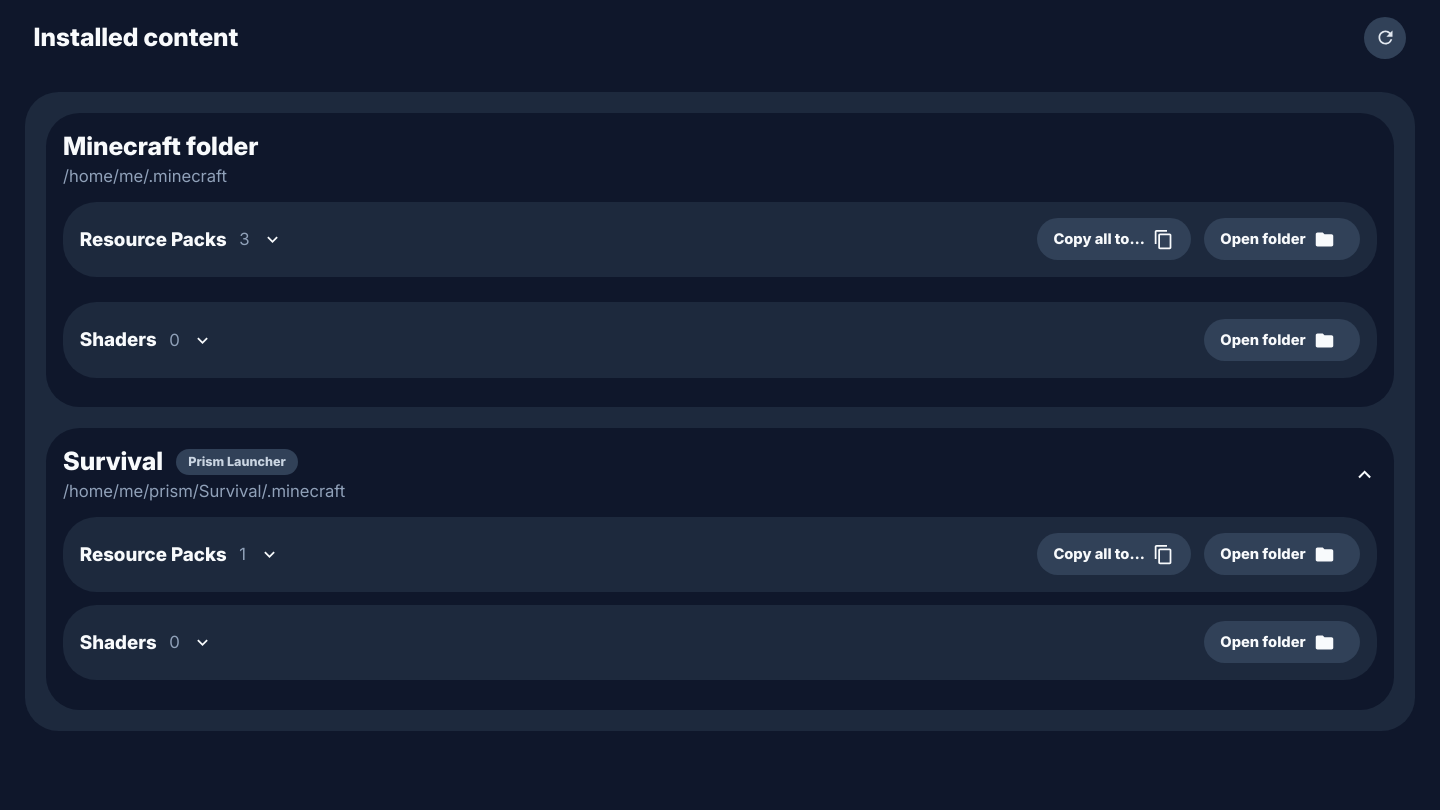
Test case: InstalledContentPage — copying between locations › lists the other locations for a file and checks off the ones that have it
The image size is (1440, 810).
Click the text "Resource Packs" below "/home/me/.minecraft".
click(153, 239)  # box [80,225,227,254]
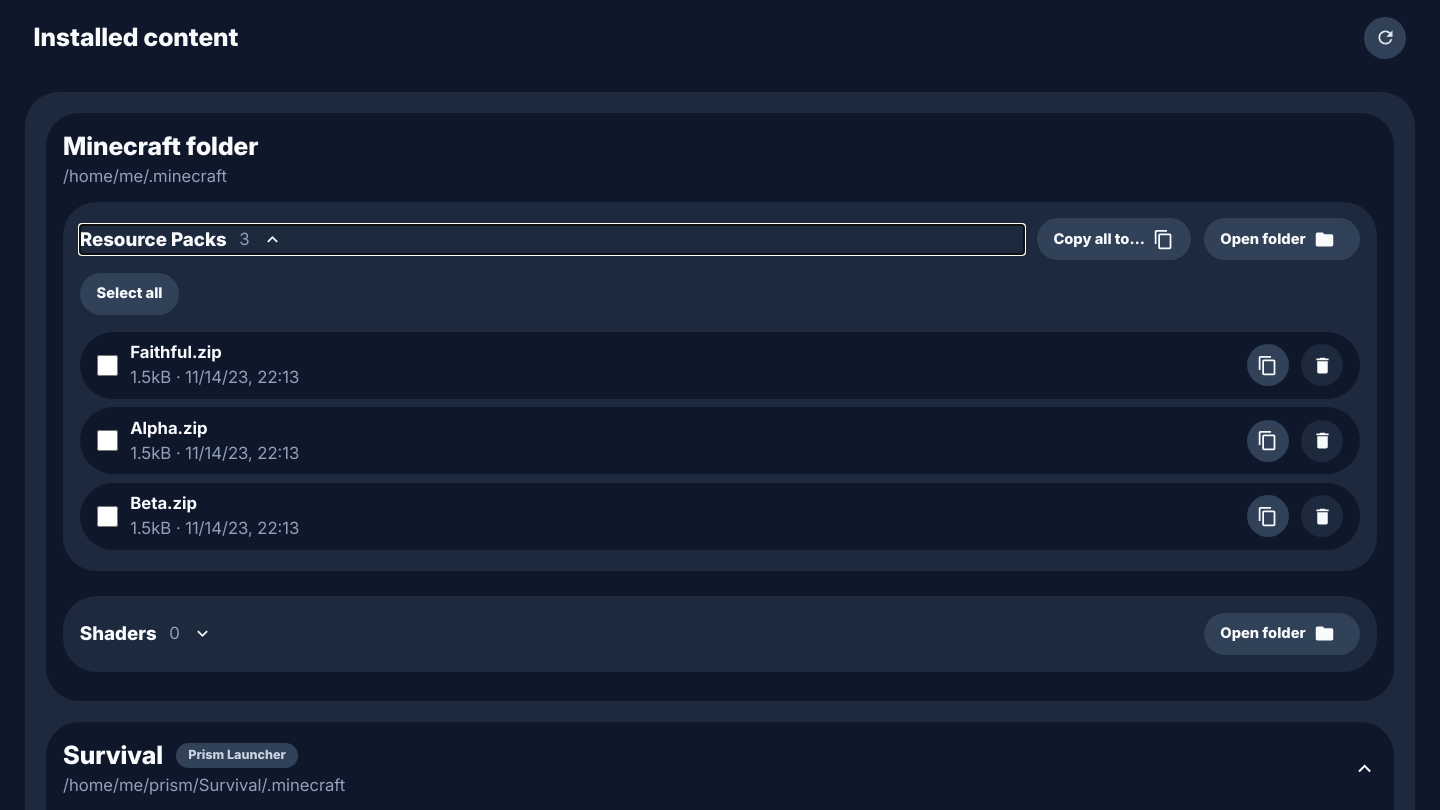
Click the button named "Copy Faithful.zip somewhere else".
click(1268, 365)  # box [1247,344,1289,386]
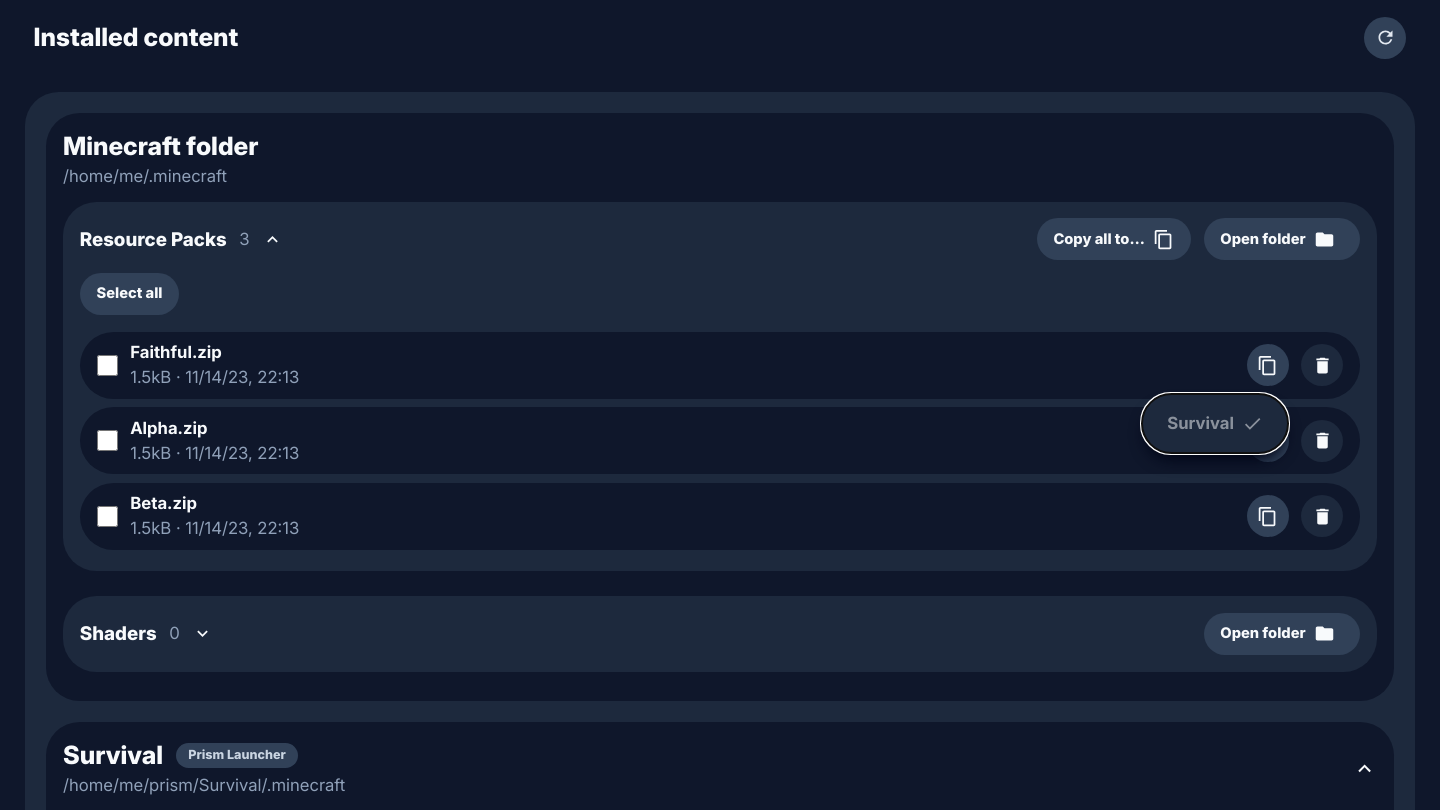
Check: the menu item "Survival" is disabled, box [1150,402,1280,444]
